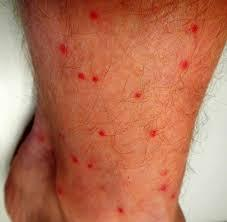Chiggers: (64, 152, 85, 170), (185, 20, 203, 36), (33, 129, 49, 145), (177, 57, 193, 71), (146, 126, 160, 140), (156, 179, 170, 192), (55, 41, 68, 54), (89, 73, 103, 85), (88, 8, 99, 21), (115, 204, 128, 215), (58, 131, 69, 142), (97, 129, 110, 138), (86, 159, 95, 172), (131, 90, 142, 98), (55, 185, 62, 195), (78, 72, 87, 79)
